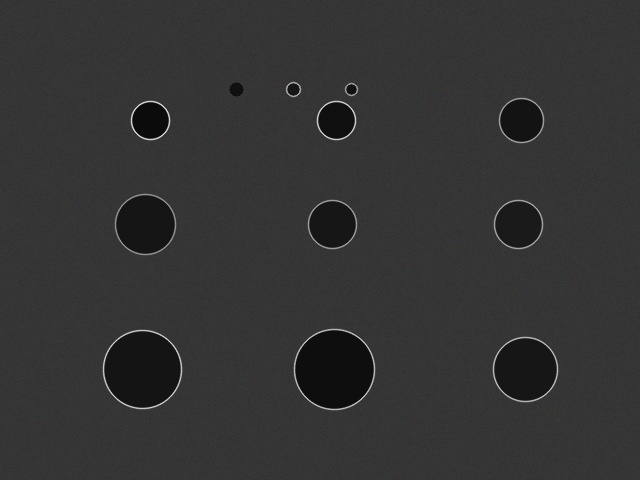hole: (294, 329, 374, 409), (103, 330, 181, 408), (493, 337, 557, 401), (115, 194, 175, 254), (308, 200, 356, 248), (494, 200, 542, 248), (499, 98, 543, 142), (131, 101, 169, 139), (317, 101, 355, 139), (229, 82, 243, 96), (286, 82, 300, 96), (345, 83, 357, 95)
